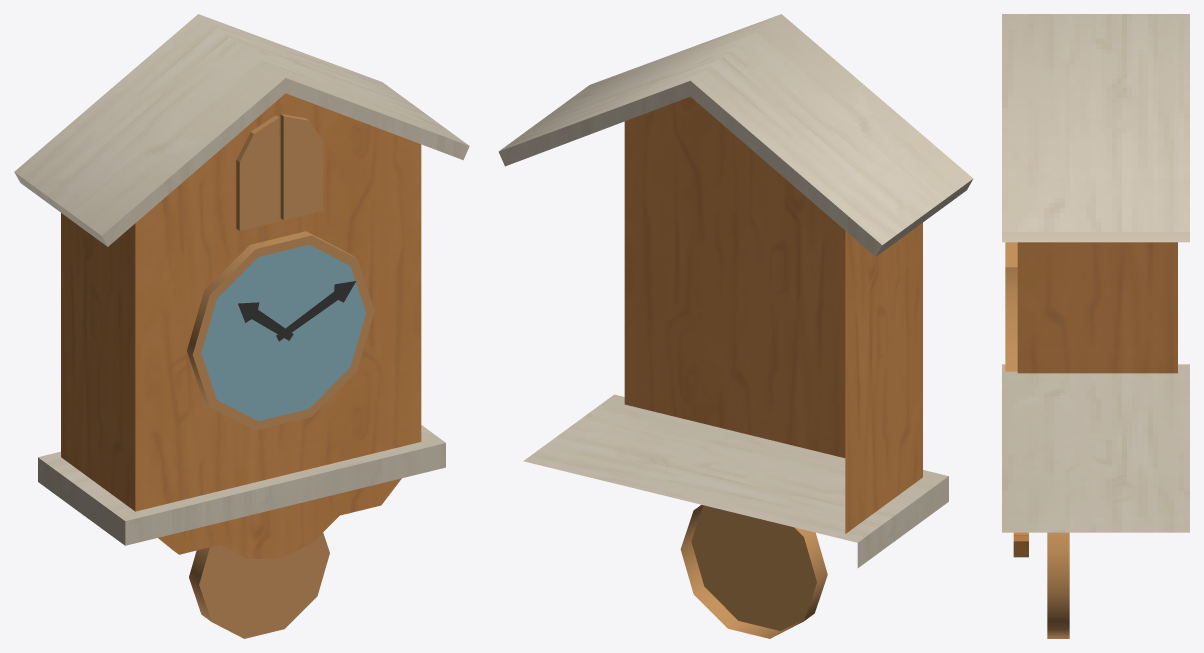
Rendered from interior_A_004.fbx.
The picture shows the model from 3 angles, left to right: view 1: azimuth 30°, elevation 25°; view 2: azimuth 150°, elevation 25°; view 3: azimuth 270°, elevation 25°; orthographic projection. The views are drawn at different scales.
Visible parts, largest first — view 1: interior_A_004; view 2: interior_A_004; view 3: interior_A_004.
Part boxes in pixels (left/top/right/bottom): interior_A_004: left=14, top=14, right=469, bottom=638; interior_A_004: left=498, top=14, right=973, bottom=638; interior_A_004: left=1002, top=14, right=1189, bottom=638.
Bounding box in the file's own units: 47.46 × 70.4 × 19.52.
Materials: 5 (2 with a texture image).
